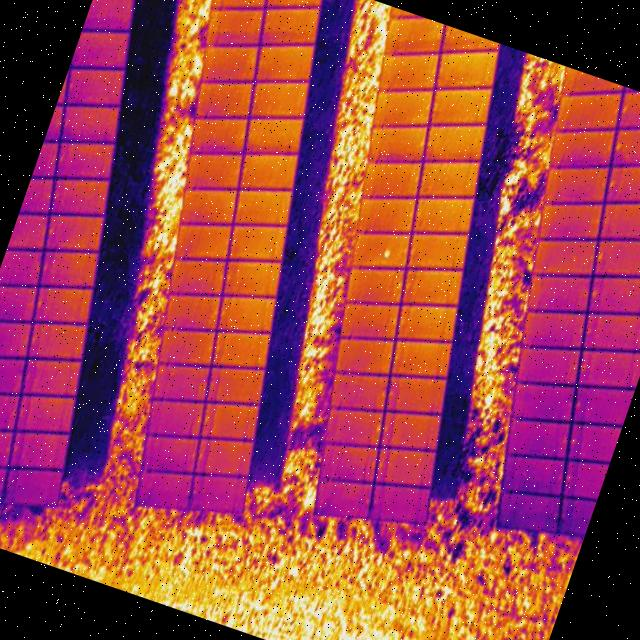Hotspot: (383, 250, 390, 257)
